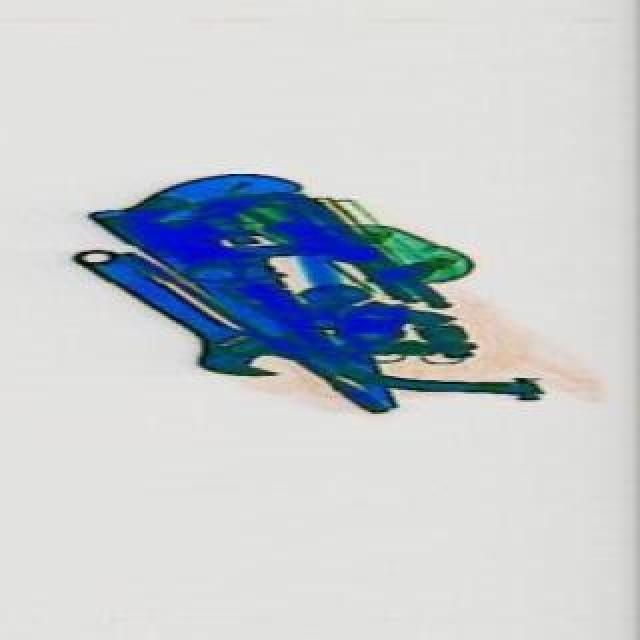scissors: (66, 226, 312, 406)
